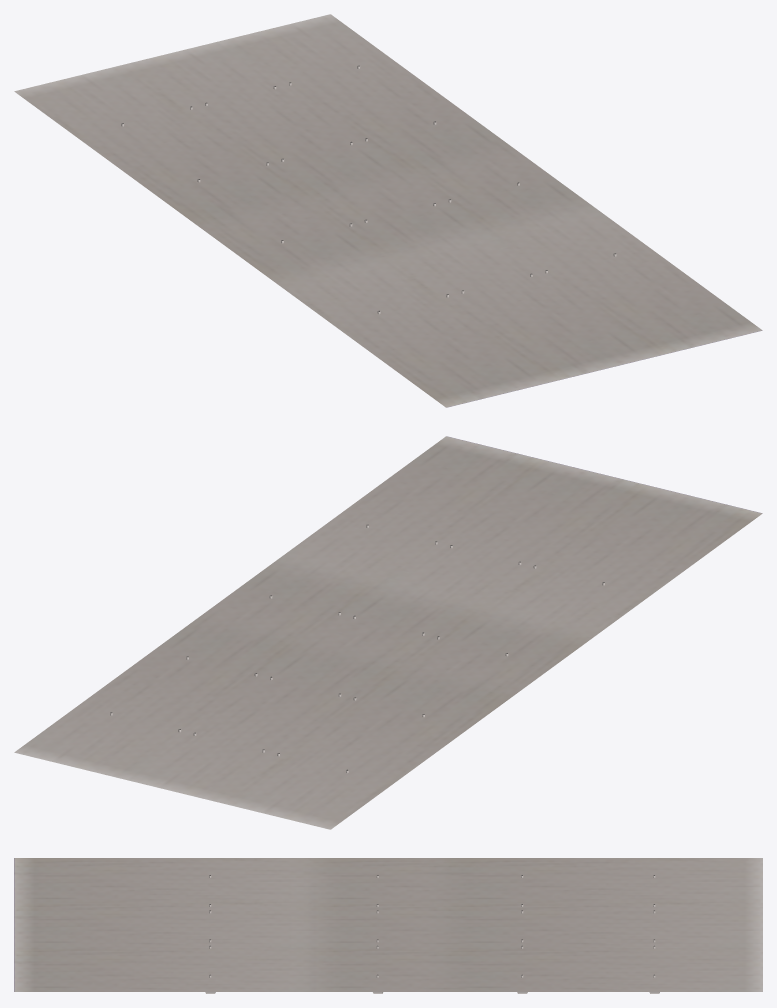
The model's file is Asset_17_Ceiling.fbx.
The picture shows the model from 3 angles, top to bottom: view 1: azimuth 30°, elevation 25°; view 2: azimuth 150°, elevation 25°; view 3: azimuth 270°, elevation 25°; orthographic projection. The views are drawn at different scales.
Parts seen in each view (by area): view 1: SK_17_Ceiling; view 2: SK_17_Ceiling; view 3: SK_17_Ceiling.
Boxes of the visible parts, x1,y1,x2,y2 form: SK_17_Ceiling: (14,14,762,407); SK_17_Ceiling: (14,436,762,829); SK_17_Ceiling: (14,858,762,991).
Size of the model in its own units: 54.84 by 3.52 by 130.
